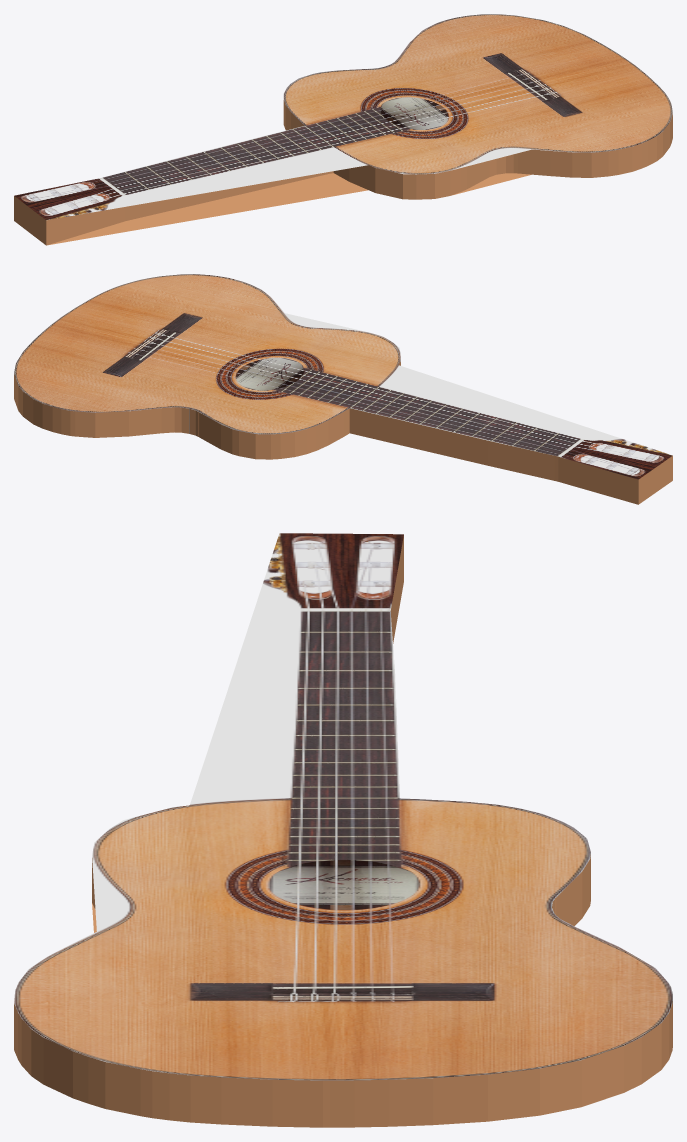
Rendered from guitar.fbx.
3 renders of one model, top to bottom at view 1: azimuth 30°, elevation 25°; view 2: azimuth 150°, elevation 25°; view 3: azimuth 270°, elevation 25°, orthographic. The views are drawn at different scales.
Visible parts, largest first — view 1: Cube; view 2: Cube; view 3: Cube.
Part boxes in pixels (bbox=[...]): Cube: bbox=[14, 14, 672, 245]; Cube: bbox=[14, 274, 672, 504]; Cube: bbox=[14, 533, 672, 1127].
Size of the model in its own units: 352 by 14.08 by 179.
